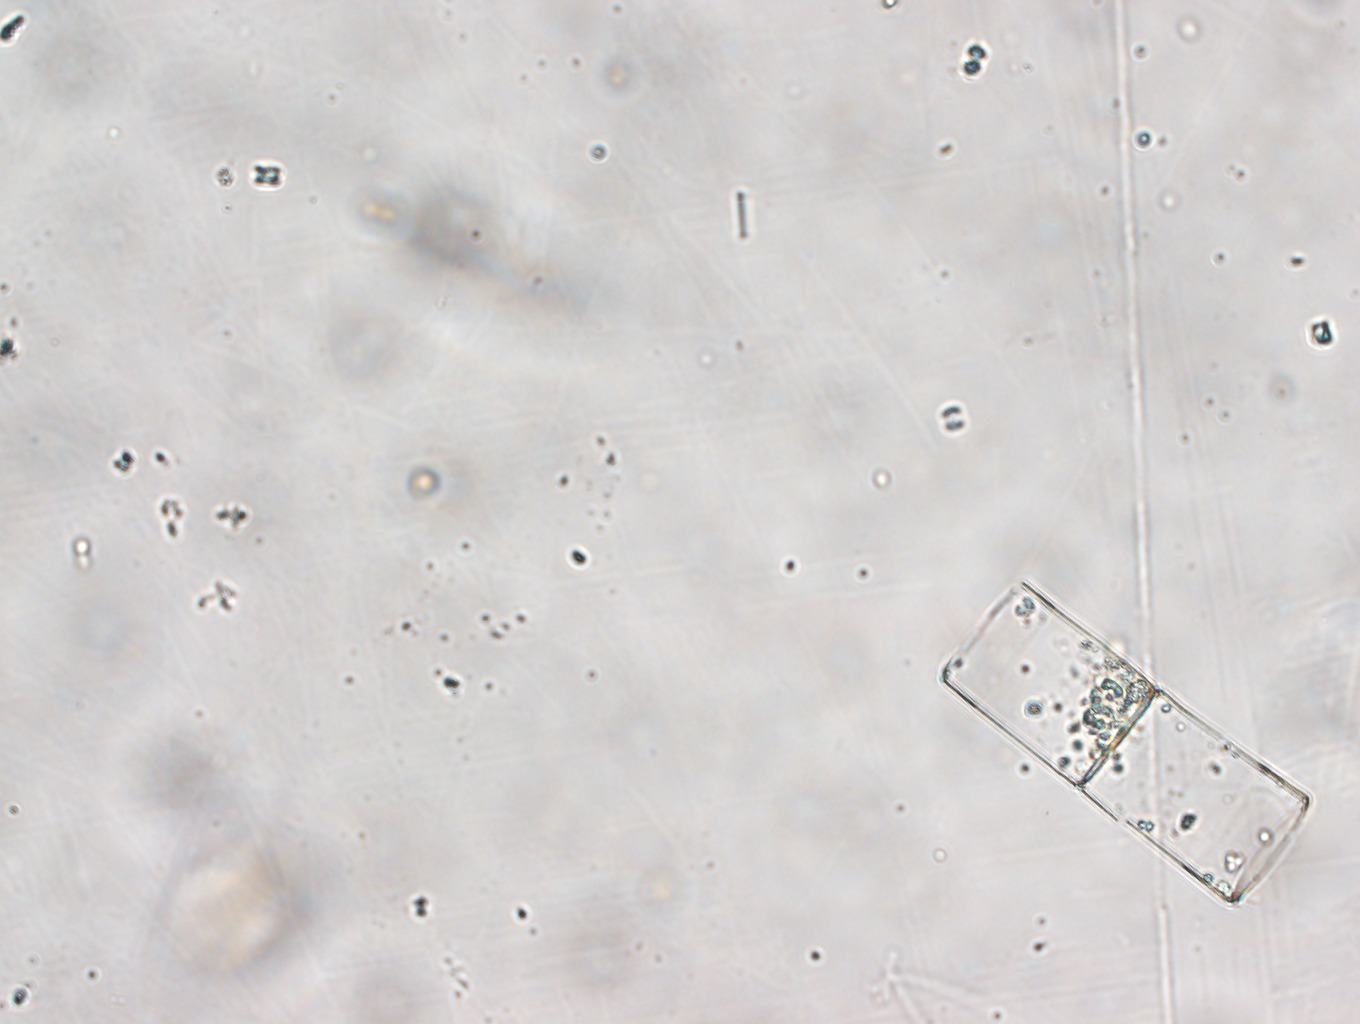guinardia flaccida: (942, 580, 1309, 904)
